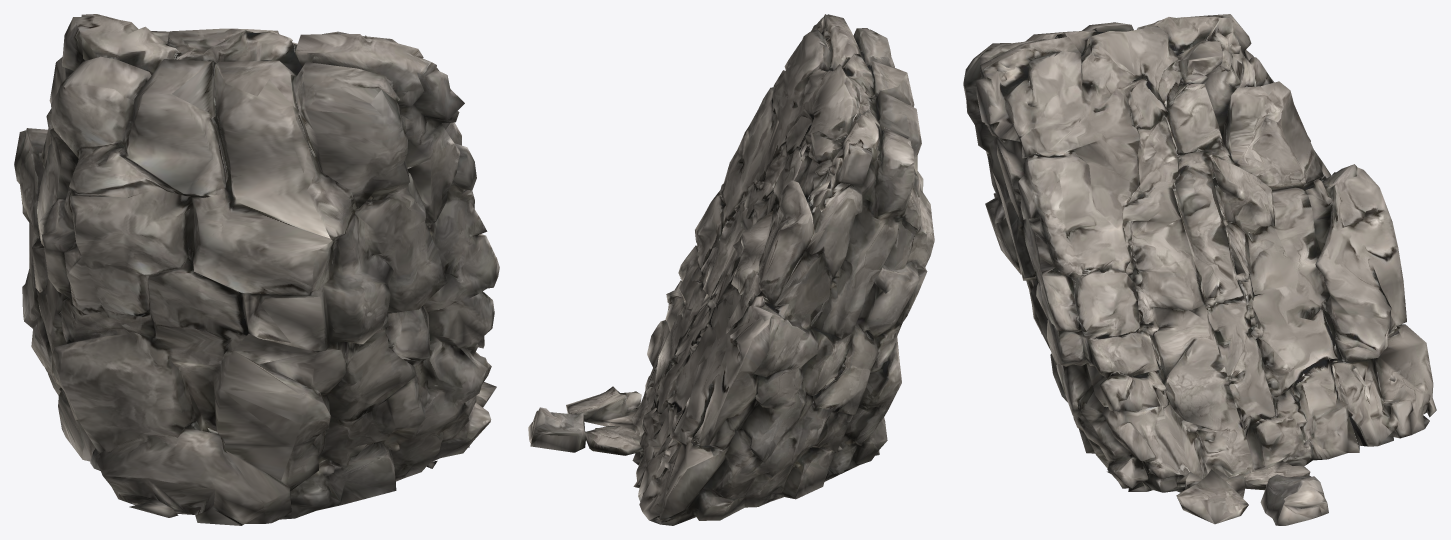
File: crag_a_lod1.glb
3 renders of one model, left to right at view 1: azimuth 30°, elevation 25°; view 2: azimuth 150°, elevation 25°; view 3: azimuth 270°, elevation 25°, orthographic. The views are drawn at different scales.
Visible parts, largest first — view 1: crag_a_lod1; view 2: crag_a_lod1; view 3: crag_a_lod1.
Boxes of the visible parts, bbox=[...] form: crag_a_lod1: bbox=[14, 14, 499, 525]; crag_a_lod1: bbox=[528, 14, 934, 525]; crag_a_lod1: bbox=[963, 14, 1436, 525].
Bounding box in the file's own units: 49.92 × 50.2 × 55.82.
Materials: 1 (1 with a texture image).
